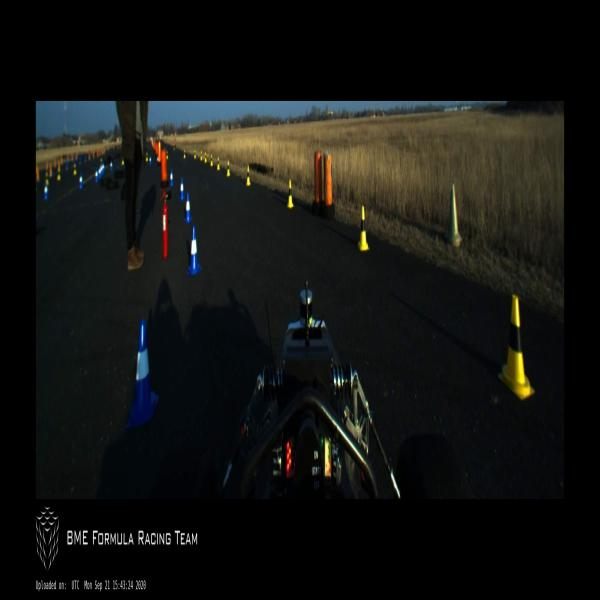blue_cone: (126, 320, 158, 430), (187, 226, 202, 274), (184, 193, 192, 224), (179, 178, 185, 200), (169, 168, 174, 187), (44, 182, 48, 200), (79, 173, 83, 189), (95, 168, 98, 182), (98, 166, 101, 179), (149, 155, 152, 165), (102, 163, 105, 173), (110, 159, 112, 171), (100, 165, 102, 175)
unknown_cone: (445, 184, 462, 248)
yellow_cone: (498, 294, 535, 400), (357, 206, 370, 250), (286, 179, 294, 208), (246, 165, 251, 185), (226, 160, 230, 177), (45, 172, 49, 184), (73, 164, 77, 176), (57, 170, 61, 180), (217, 157, 220, 170), (210, 154, 213, 166), (204, 151, 207, 163), (200, 150, 203, 161), (183, 148, 186, 158), (121, 156, 124, 166), (194, 150, 196, 160), (146, 152, 148, 162), (167, 151, 168, 159)
